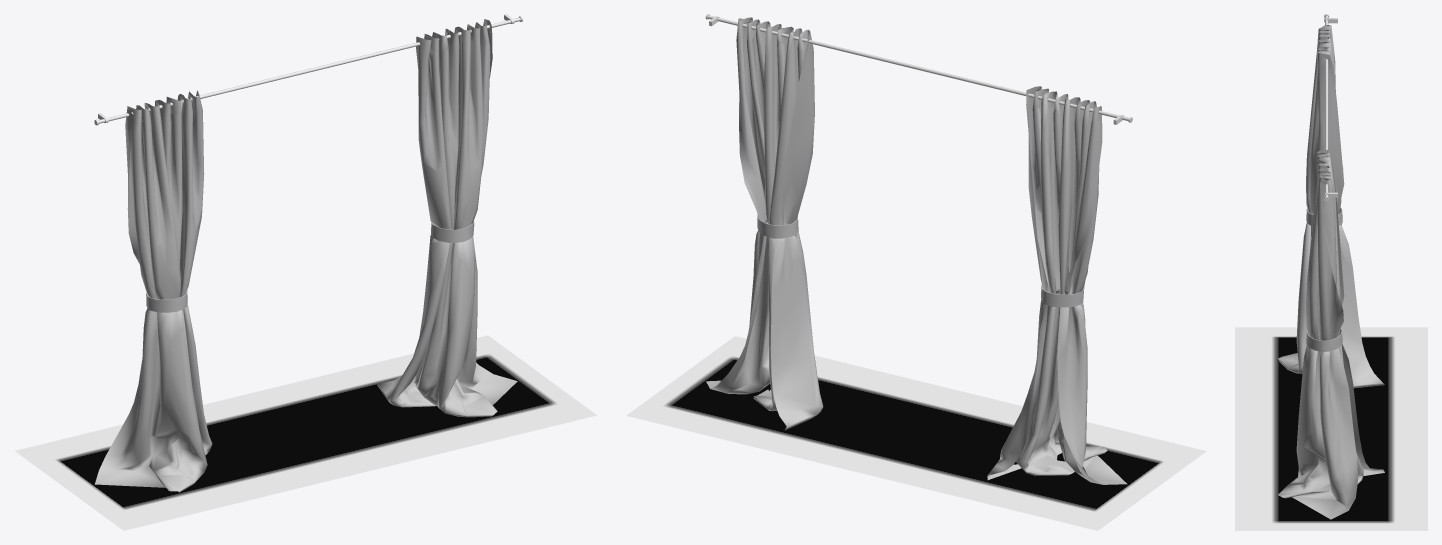
File: curtain003.dae
The picture shows the model from 3 angles, left to right: view 1: azimuth 30°, elevation 25°; view 2: azimuth 150°, elevation 25°; view 3: azimuth 270°, elevation 25°; orthographic projection. The views are drawn at different scales.
Parts seen in each view (by area): view 1: curtain003_part01, sd_curtain003, curtain003_part02; view 2: curtain003_part01, sd_curtain003, curtain003_part02; view 3: sd_curtain003, curtain003_part01, curtain003_part02.
Part boxes in pixels (x1=…): curtain003_part01: x1=94, y1=19, x2=517, y2=492; sd_curtain003: x1=15, y1=335, x2=596, y2=530; curtain003_part02: x1=94, y1=14, x2=522, y2=125; curtain003_part01: x1=706, y1=17, x2=1127, y2=484; sd_curtain003: x1=626, y1=336, x2=1206, y2=530; curtain003_part02: x1=705, y1=14, x2=1132, y2=124; sd_curtain003: x1=1235, y1=327, x2=1427, y2=530; curtain003_part01: x1=1278, y1=25, x2=1384, y2=519; curtain003_part02: x1=1324, y1=14, x2=1337, y2=201.
Bounding box in the file's own units: 3.21 × 2.4 × 1.28.
